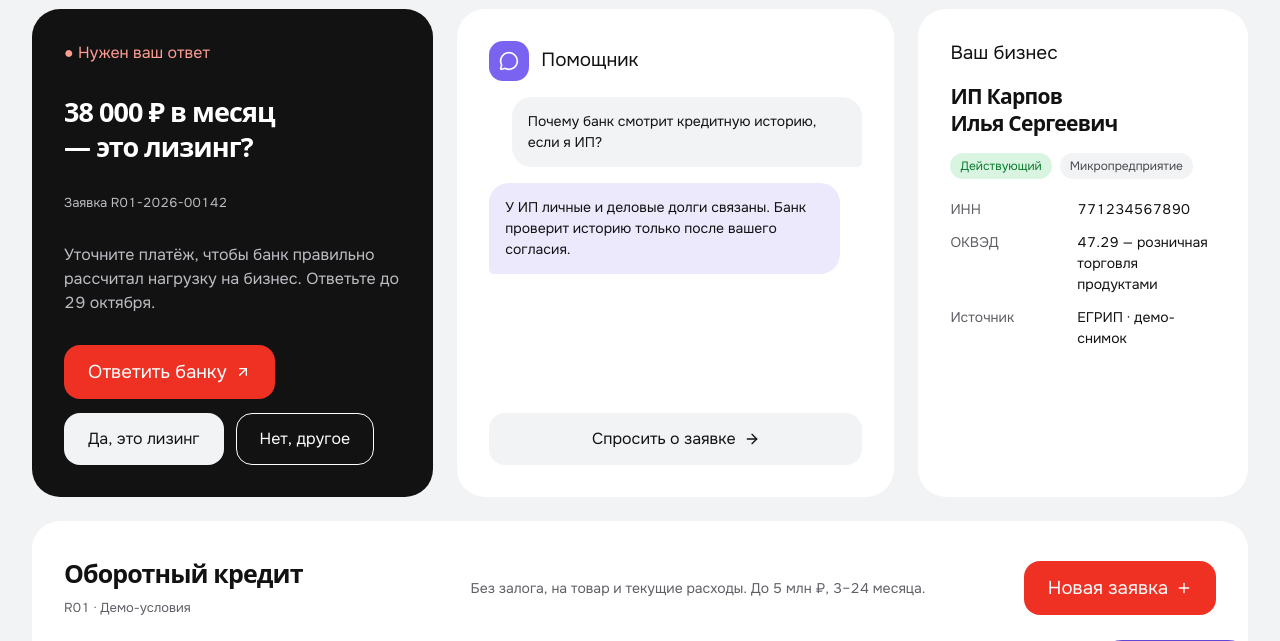
Test: Key screens › shows an older open request when the hero displays a newer offer
(page scrolled)
Click the button "Ответить банку": coordinates (169, 372) [64,345,275,399]
(page scrolled)
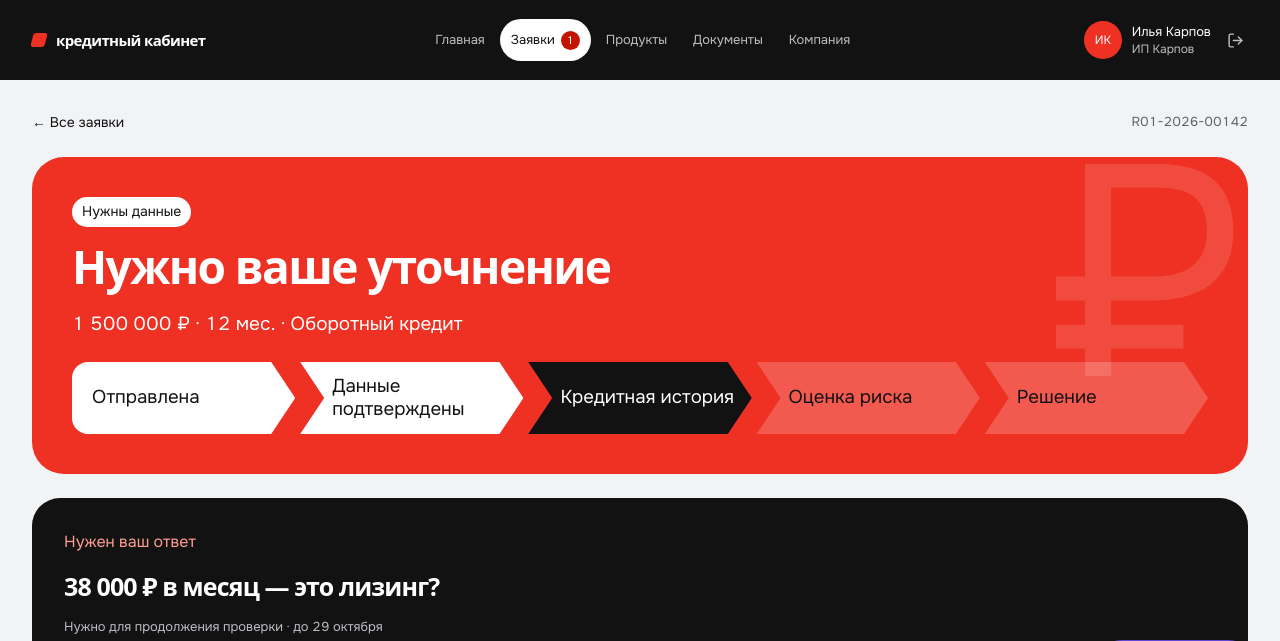
Check: the text "R01-2026-00142" is shown, box [1131,113,1248,132]
Check: the heading "Нужно ваше уточнение" is shown, box [72,235,610,297]
